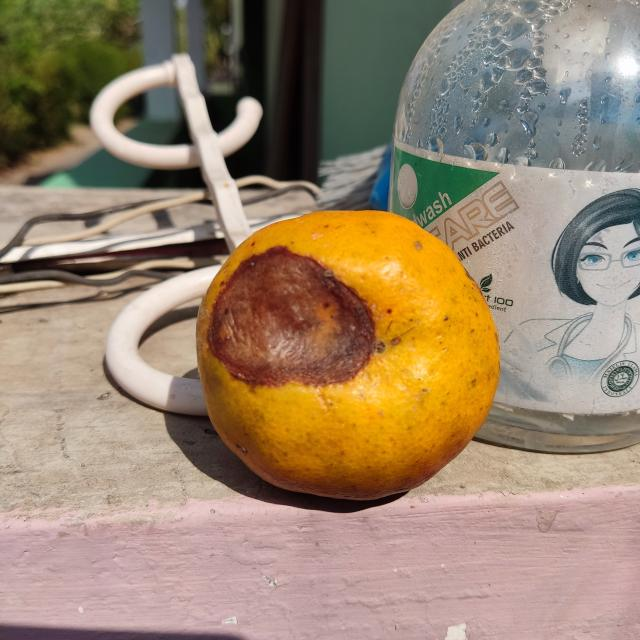orange: (192, 203, 508, 495)
